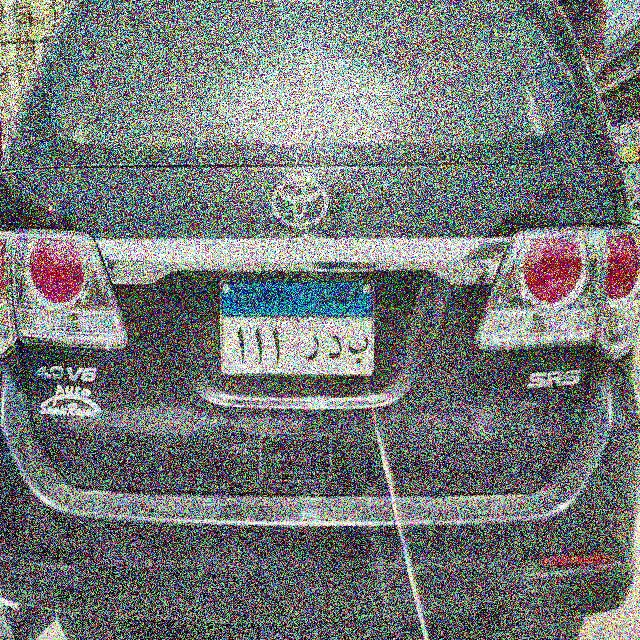License Plate: (216, 274, 377, 380)
